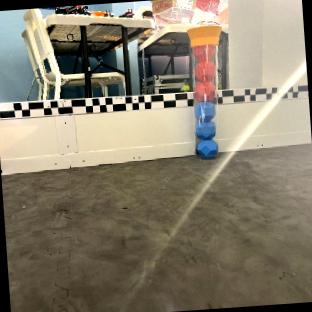V5_BLUE: (194, 101, 218, 158)
V5_RED: (187, 24, 221, 158), (193, 45, 215, 101)
